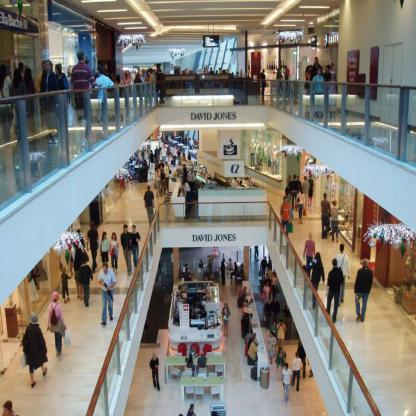face: (46, 63, 51, 72), (103, 267, 108, 275), (43, 65, 47, 72), (56, 67, 59, 76), (285, 199, 288, 206), (333, 74, 336, 80), (113, 235, 116, 241), (126, 227, 129, 233), (319, 70, 322, 75), (316, 59, 319, 64), (326, 68, 329, 73), (133, 227, 135, 232), (226, 305, 228, 310), (139, 76, 141, 80), (154, 71, 156, 75), (191, 170, 193, 174), (184, 166, 186, 170), (105, 235, 107, 239), (275, 299, 277, 303), (275, 323, 277, 327), (281, 322, 283, 326), (270, 300, 272, 303), (267, 284, 269, 287), (274, 273, 275, 278), (167, 163, 168, 166), (165, 147, 166, 150), (270, 269, 271, 272), (235, 264, 236, 266)
